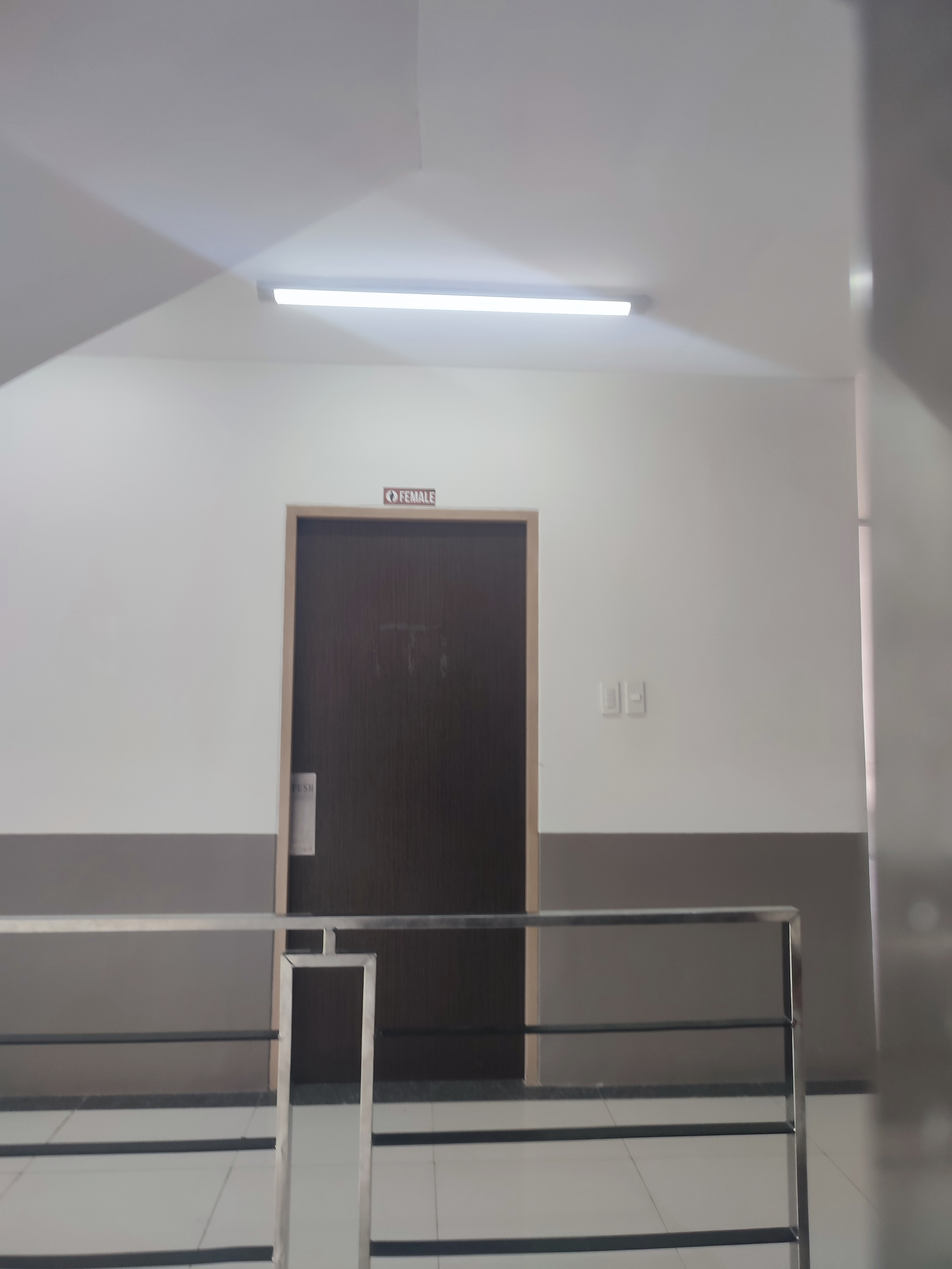door: (276, 506, 539, 1092)
